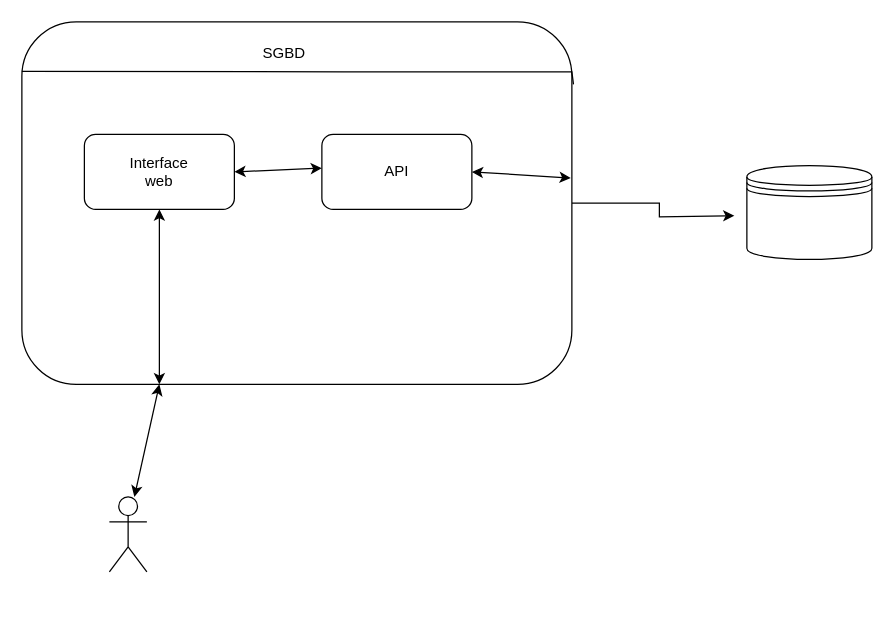
The diagram is 894 pixels wide and 620 high, and some of its shapes have lost their labels. The centre of each missing label's shape, as x and y in pixels:
Jv. Abel: point 127,534
word: point 809,211
